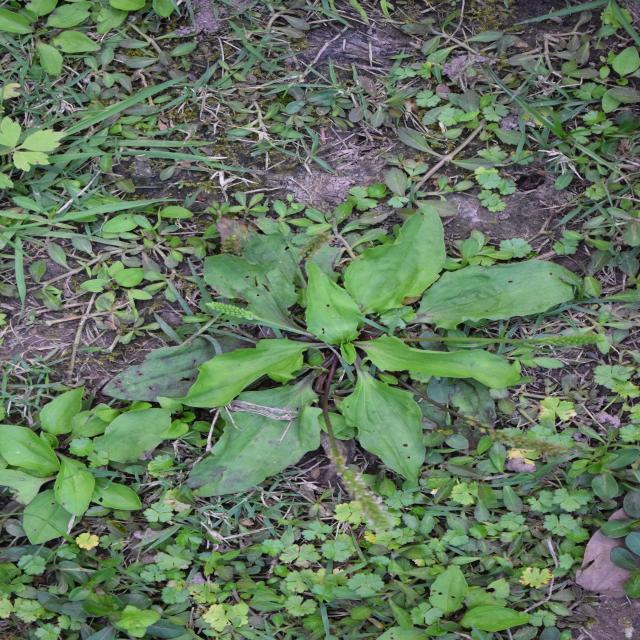plantain: (141, 208, 422, 531)
